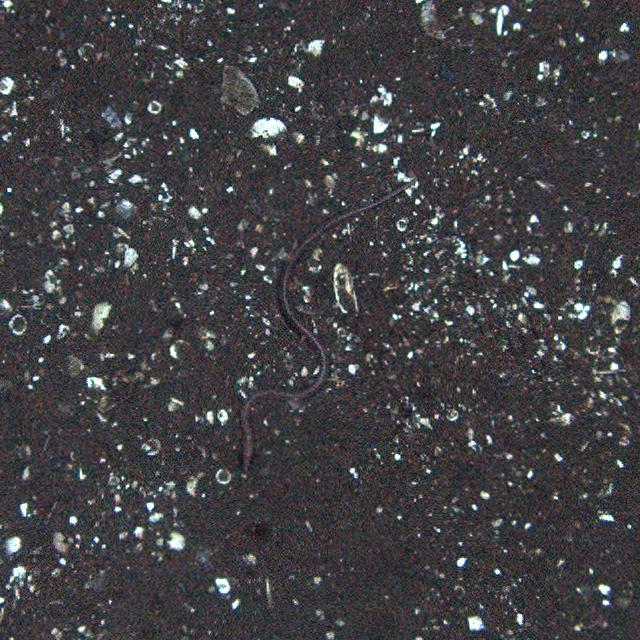eel: (239, 182, 418, 467)
